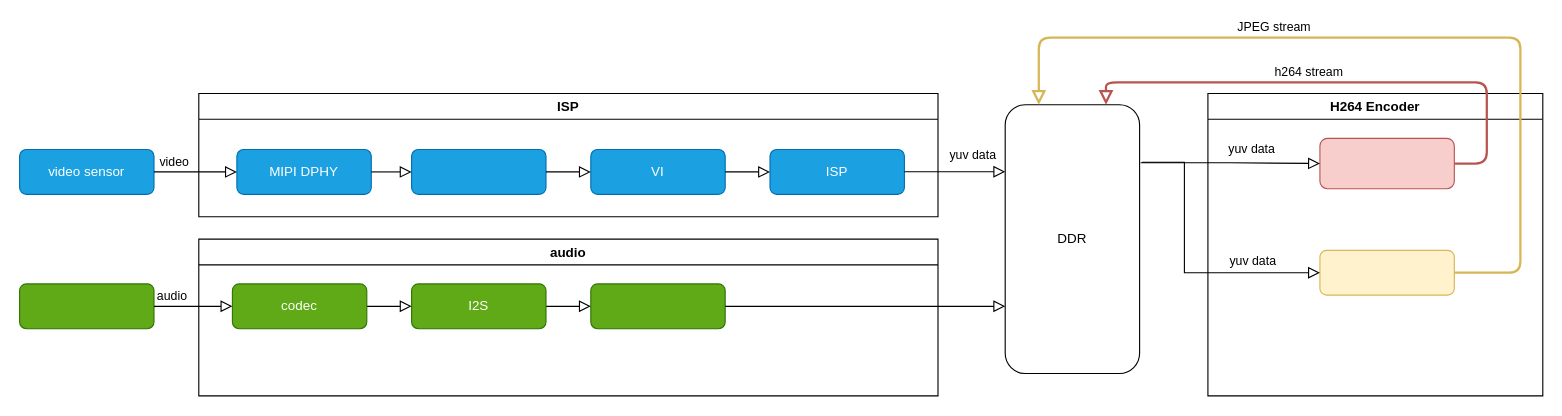
Image size: 1562x416. Some labels were removed from this diagram. The shapes that lost their labels are listed below. From the top down, each one's centre as x and y in pixels, then its label:
pixel 478 171: CSI
pixel 1386 163: video encoder core
pixel 1386 272: JPEG encoder core
pixel 86 306: MIC
pixel 657 306: PDMA
